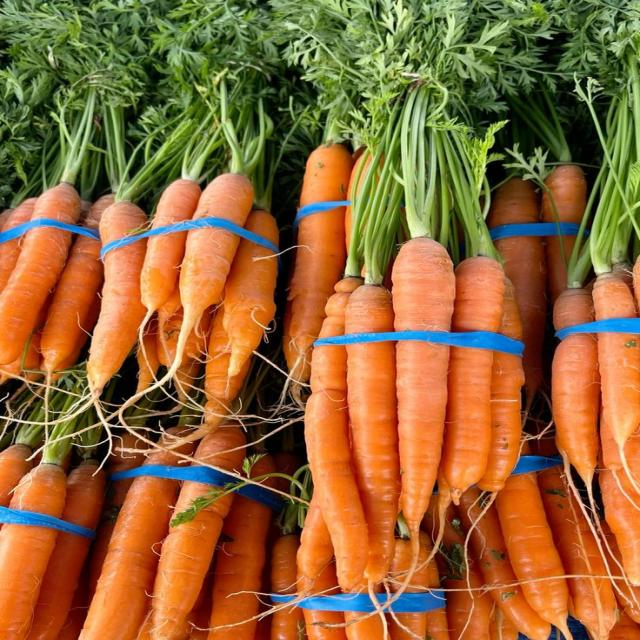carrot: (80, 477, 178, 639), (305, 346, 368, 591), (459, 488, 550, 639), (538, 466, 616, 638), (347, 341, 400, 583), (496, 473, 570, 637), (152, 494, 233, 639), (283, 207, 346, 382), (396, 341, 449, 538), (423, 496, 493, 639), (0, 227, 72, 364), (171, 228, 239, 373), (87, 239, 146, 397), (209, 496, 273, 639), (41, 236, 103, 379), (494, 237, 546, 401), (441, 347, 493, 503), (552, 334, 599, 494), (224, 239, 277, 377), (0, 524, 59, 639), (477, 352, 525, 491), (29, 532, 90, 639), (203, 307, 250, 430), (598, 333, 639, 469), (88, 479, 133, 600), (599, 468, 639, 585), (0, 295, 52, 381), (297, 498, 339, 596), (52, 295, 100, 380), (600, 521, 639, 623), (140, 231, 186, 317), (297, 496, 333, 593), (541, 165, 586, 224), (387, 601, 448, 639), (58, 564, 88, 639), (0, 444, 33, 506), (157, 295, 183, 367), (136, 317, 160, 393), (188, 570, 213, 639), (271, 534, 299, 594), (347, 148, 372, 199), (0, 237, 23, 292), (304, 609, 346, 639), (344, 610, 387, 639), (174, 360, 202, 403), (490, 607, 519, 639), (608, 612, 639, 639), (136, 612, 153, 639), (0, 209, 13, 232)
